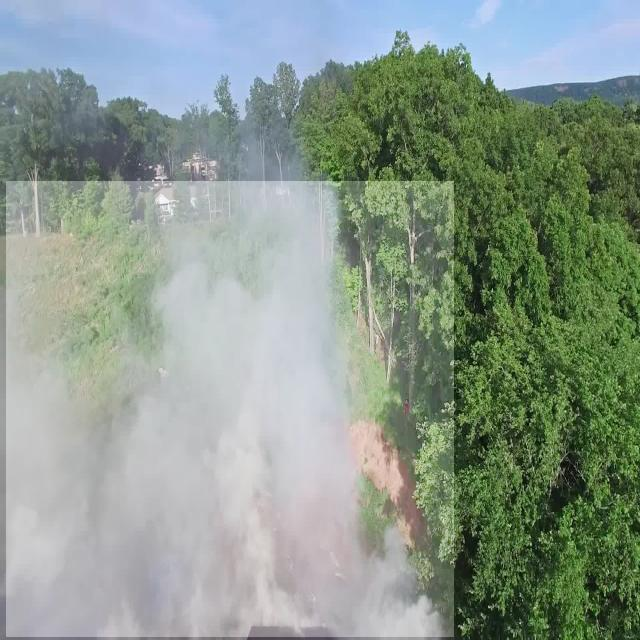Smoke: (6, 181, 454, 637)
